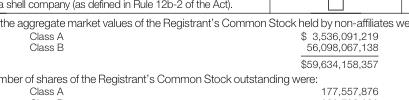table: (28, 28, 377, 69)
table column: (181, 28, 377, 69), (28, 28, 181, 69)
table row: (28, 54, 377, 69), (28, 40, 377, 54), (28, 28, 377, 40)
